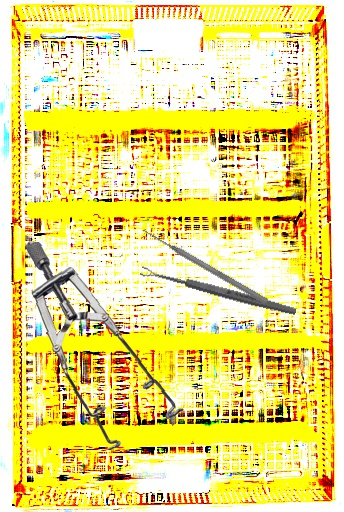Pusher: (139, 225, 270, 306)
Speculum: (18, 241, 190, 453)
Surgical Spoon: (139, 264, 298, 318)
